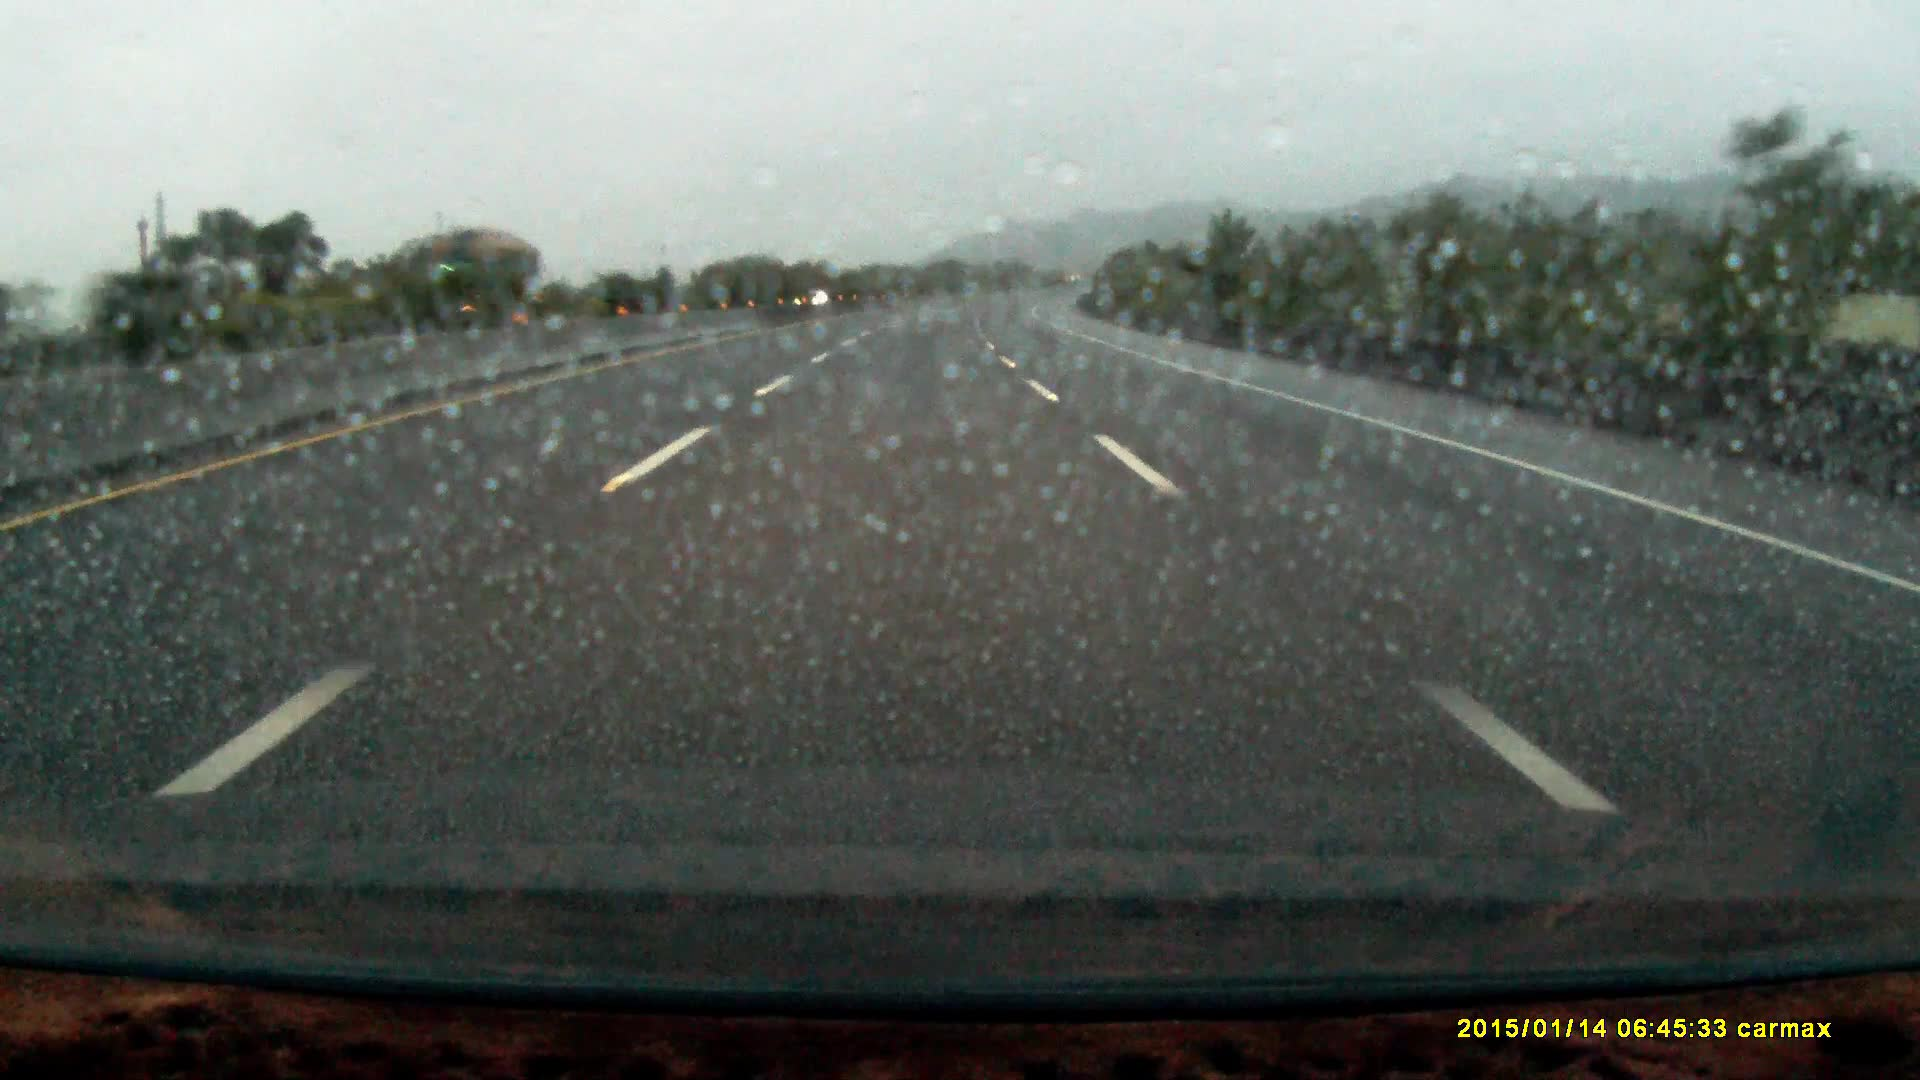vehicle: (421, 225, 545, 324)
